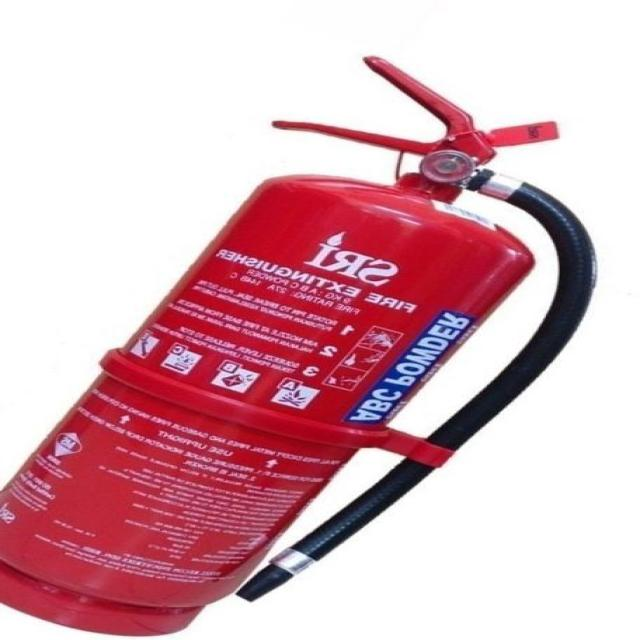fire_extinguisher: (0, 50, 605, 639)
